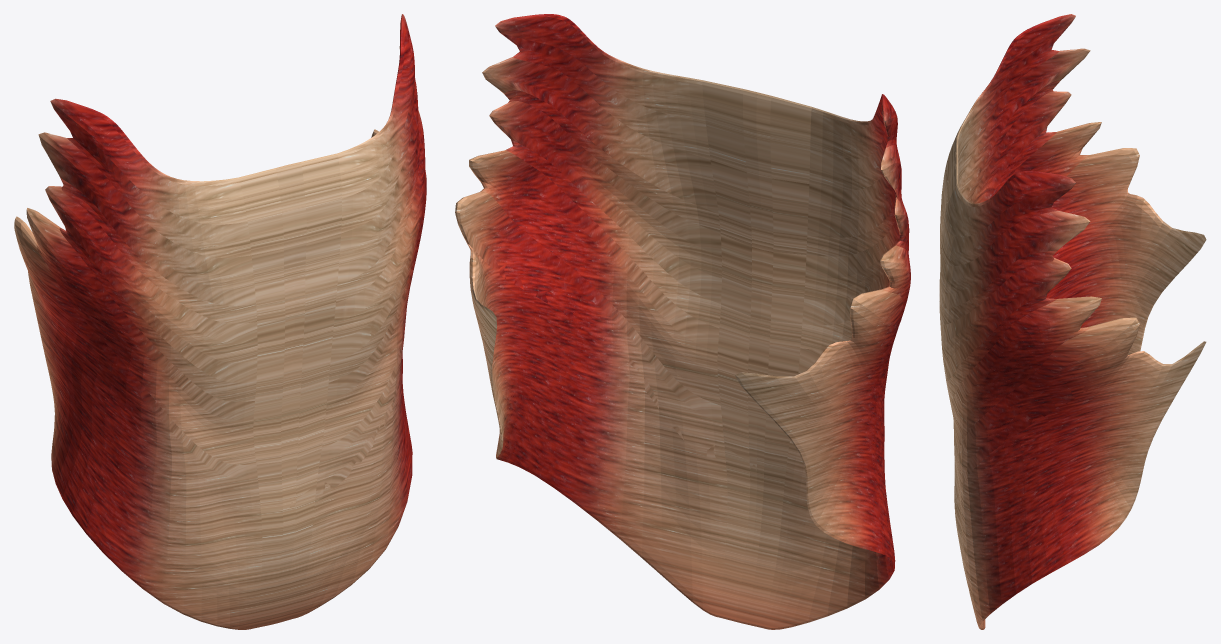
File: split-obliques.fbx
The picture shows the model from 3 angles, left to right: view 1: azimuth 30°, elevation 25°; view 2: azimuth 150°, elevation 25°; view 3: azimuth 270°, elevation 25°; orthographic projection. The views are drawn at different scales.
Visible parts, largest first — view 1: polySurface2, polySurface3; view 2: polySurface3, polySurface2; view 3: polySurface3, polySurface2.
Part boxes in pixels (x1=…): polySurface2: x1=14, y1=98, x2=295, y2=629; polySurface3: x1=274, y1=14, x2=426, y2=623; polySurface3: x1=455, y1=14, x2=762, y2=623; polySurface2: x1=735, y1=92, x2=910, y2=629; polySurface3: x1=939, y1=160, x2=1206, y2=629; polySurface2: x1=940, y1=14, x2=1206, y2=354.
Size of the model in its own units: 140 by 189 by 88.17.
